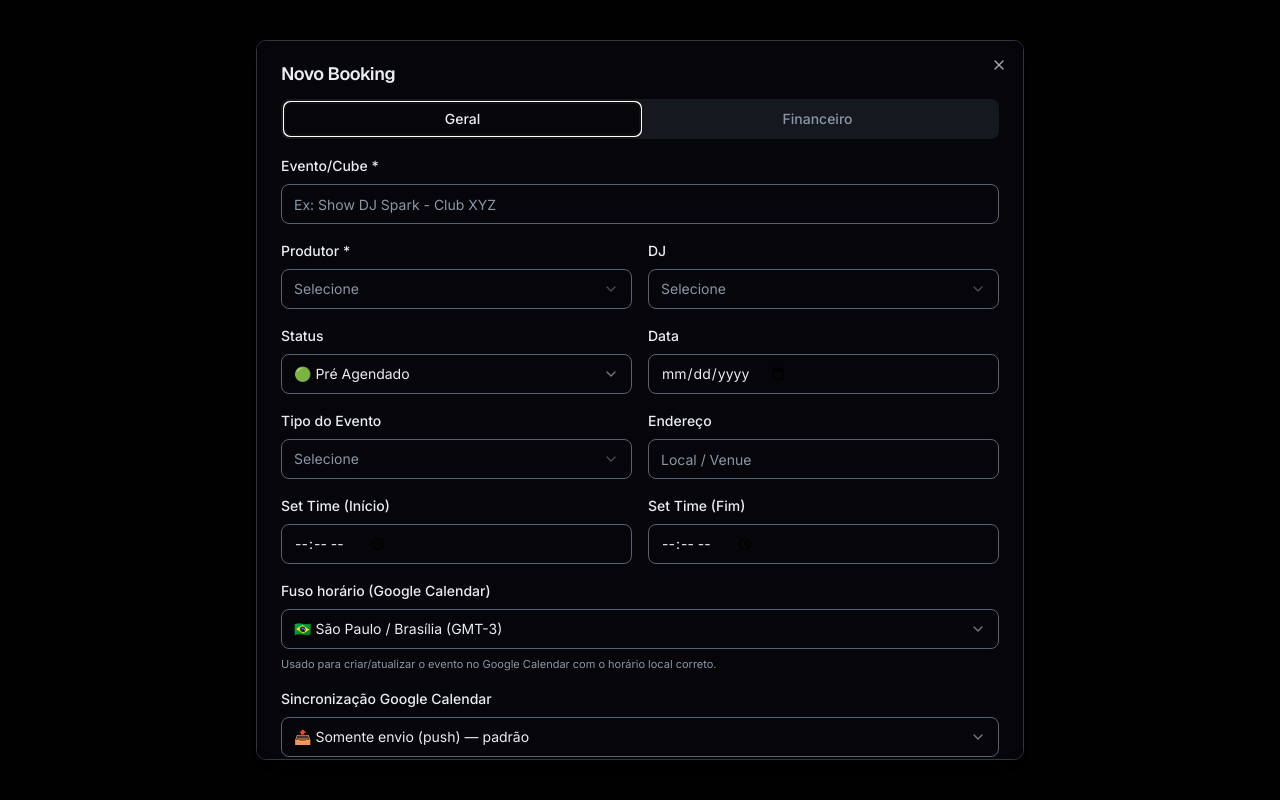
Test: BookingForm — validação cruzada de datas financeiras › bloqueia quando data do sinal é depois da data do evento
In the field labelled "Evento/Cube *": (640, 204) [281, 184, 999, 224], type "Show Sinal Tarde"
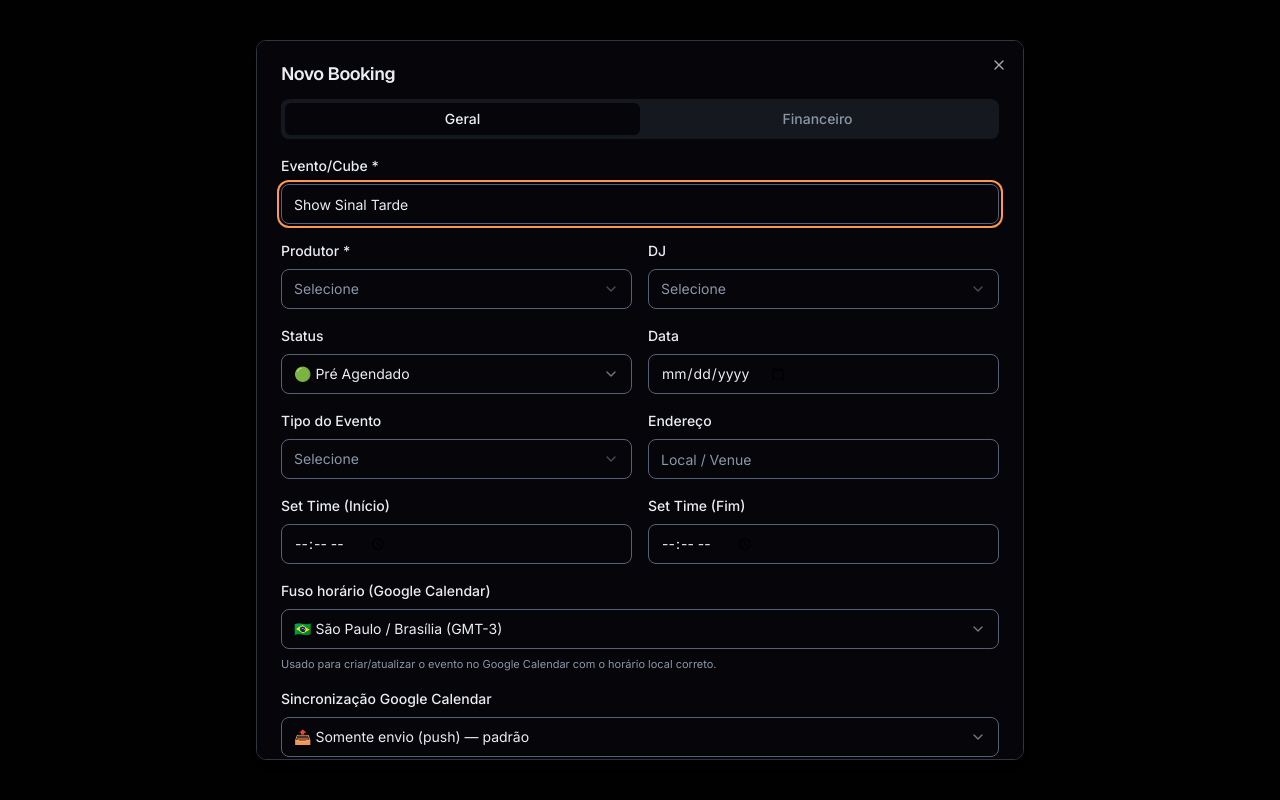
Click the dropdown labelled "Selecione" below "Produtor *": (326, 288) [281, 269, 632, 309]
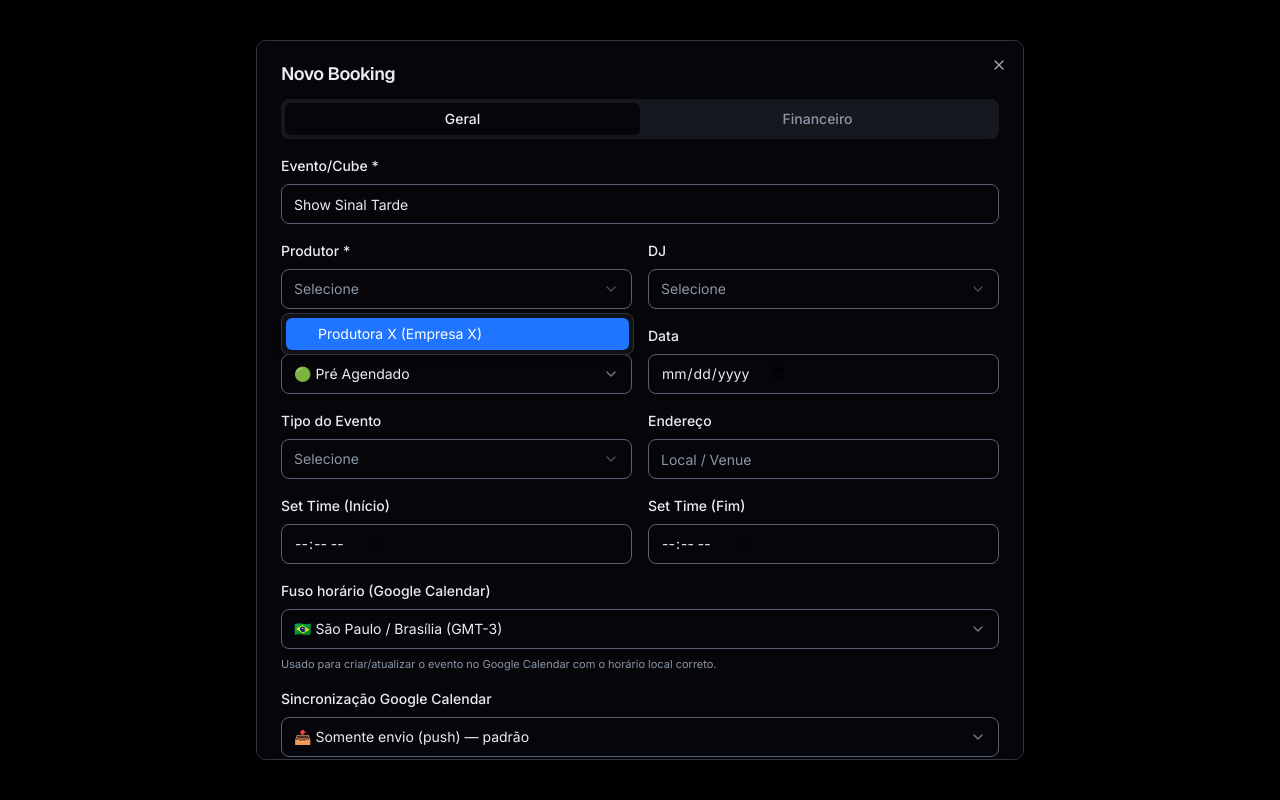
Click the option "Produtora X (Empresa X)": (458, 334) [286, 318, 629, 350]
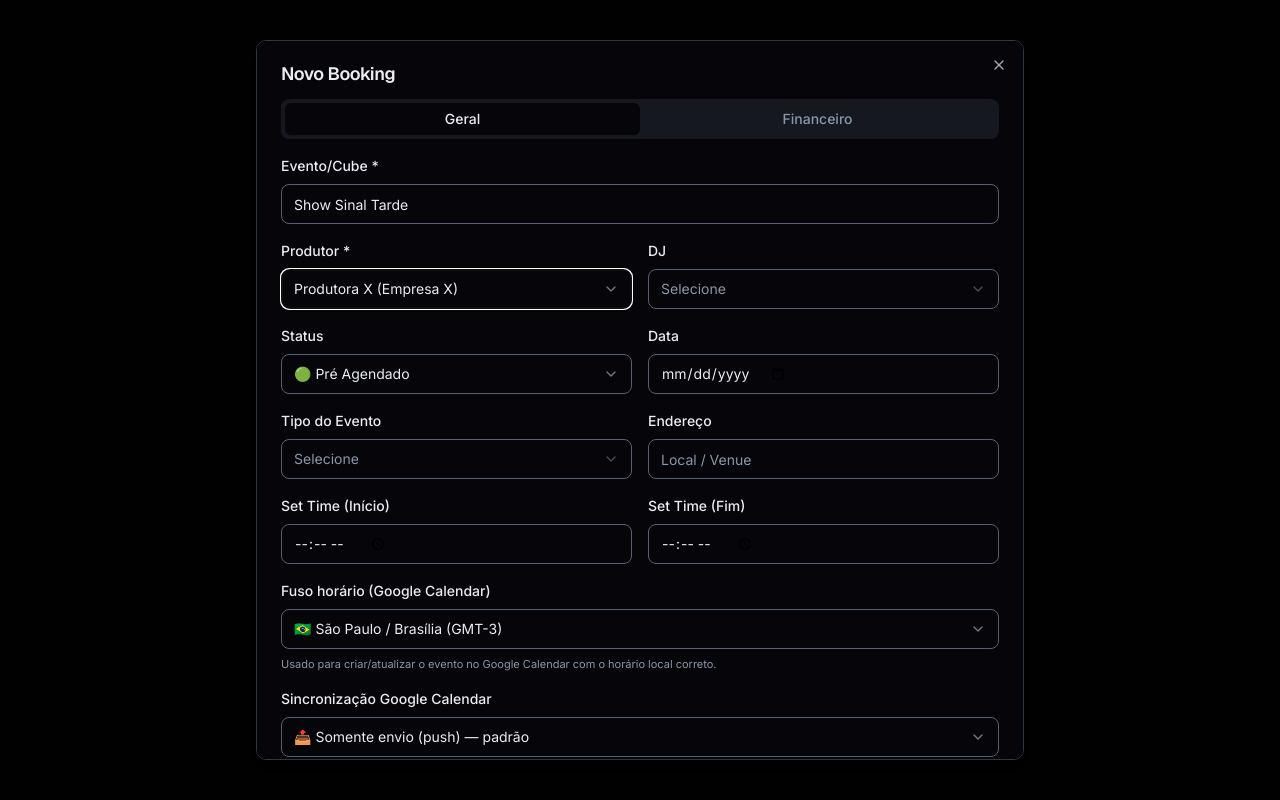
In the date field labelled "Data": (824, 374) [648, 354, 999, 394], type "2026-06-10"
Click the tab "Financeiro": (818, 119) [640, 103, 995, 135]
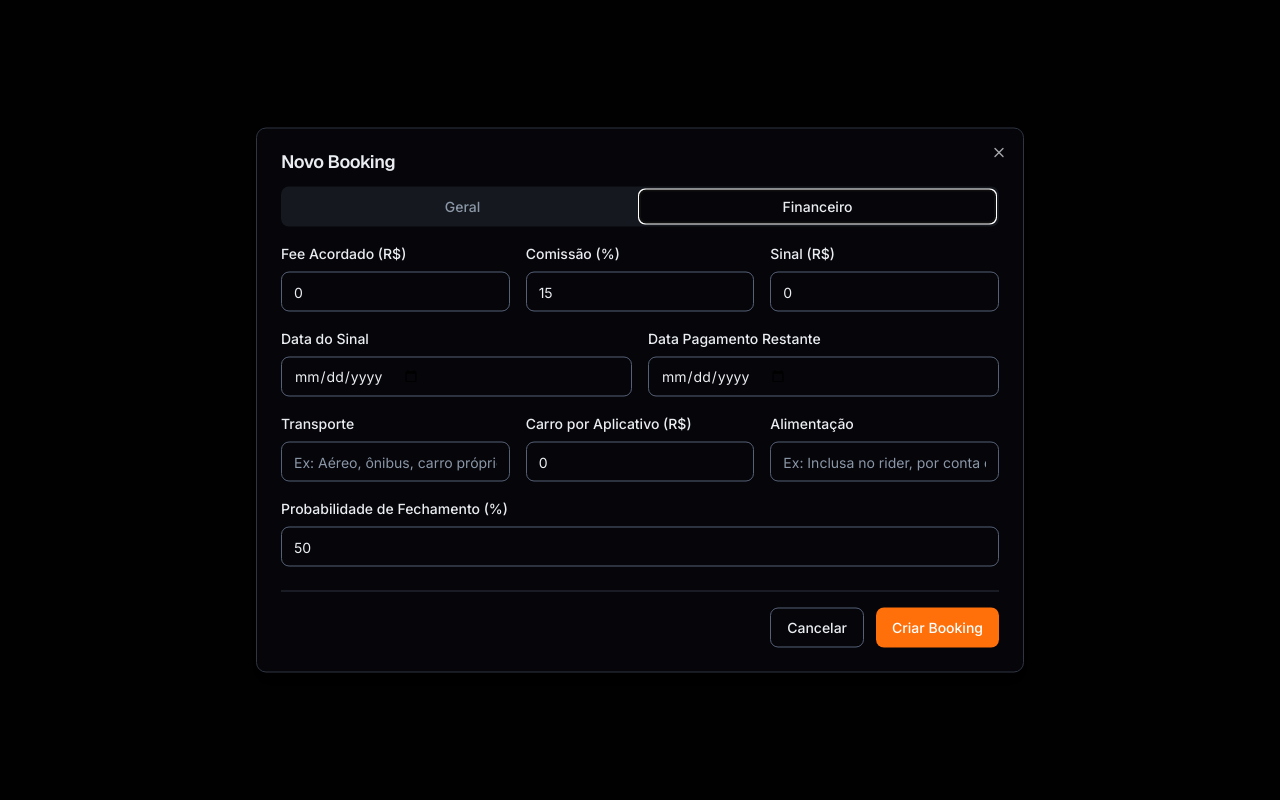
In the date field labelled "Data do Sinal": (456, 376) [281, 356, 632, 396], type "2026-07-01"
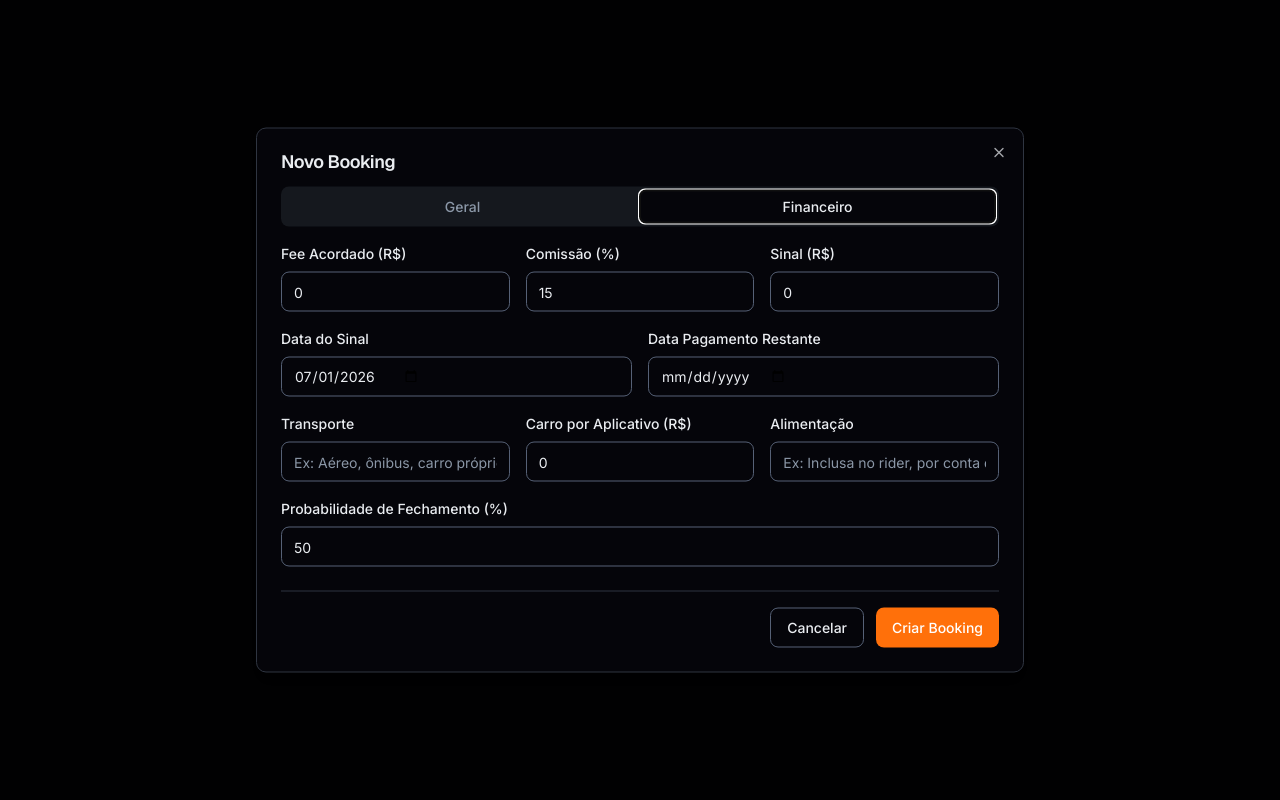
Click the button "Criar Booking": (938, 628) [876, 608, 999, 648]
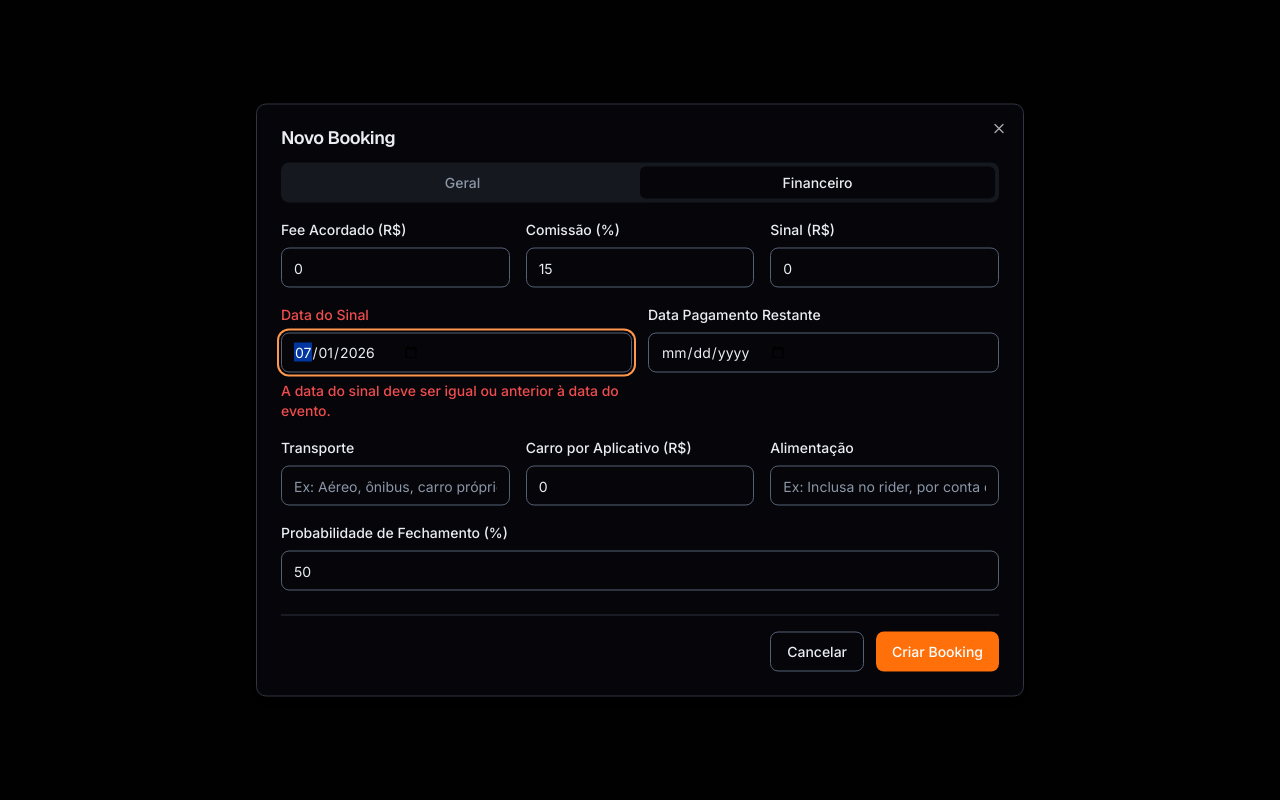
Expected: the text "A data do sinal deve ser igual ou anterior à data do evento." is shown, [281, 380, 632, 420]
